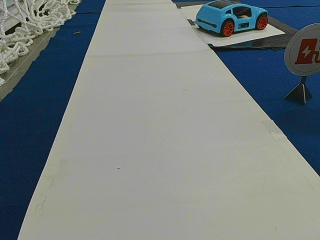battery: (285, 22, 319, 78)
car: (196, 2, 269, 35)
